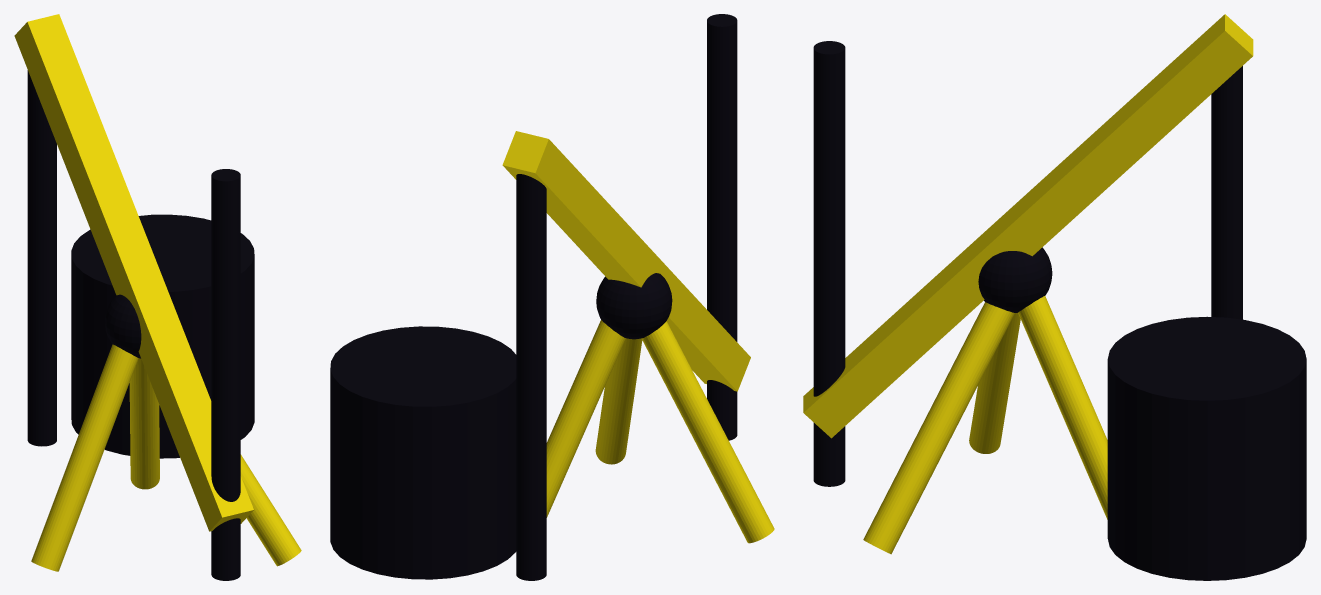
The model's file is sonda.fbx.
The picture shows the model from 3 angles, left to right: view 1: azimuth 30°, elevation 25°; view 2: azimuth 150°, elevation 25°; view 3: azimuth 270°, elevation 25°; orthographic projection. The views are drawn at different scales.
Parts seen in each view (by area): view 1: Cube, Cylinder.004, Cylinder.005, Cylinder.003, Cylinder.001, Cylinder, Cylinder.002, Sphere; view 2: Cylinder.004, Cube, Cylinder.003, Cylinder.005, Cylinder.001, Cylinder, Sphere, Cylinder.002; view 3: Cylinder.004, Cube, Cylinder.005, Cylinder.002, Cylinder.003, Cylinder, Sphere, Cylinder.001.
Boxes of the visible parts, bbox=[...] form: Cube: bbox=[14, 14, 253, 531]; Cylinder.004: bbox=[71, 214, 254, 458]; Cylinder.005: bbox=[211, 169, 240, 580]; Cylinder.003: bbox=[27, 70, 56, 446]; Cylinder.001: bbox=[31, 344, 138, 571]; Cylinder: bbox=[129, 358, 159, 489]; Cylinder.002: bbox=[240, 454, 301, 566]; Sphere: bbox=[105, 294, 177, 358]; Cylinder.004: bbox=[330, 326, 516, 579]; Cube: bbox=[502, 131, 750, 391]; Cylinder.003: bbox=[516, 174, 546, 580]; Cylinder.005: bbox=[707, 14, 737, 440]; Cylinder.001: bbox=[641, 321, 774, 543]; Cylinder: bbox=[546, 320, 625, 517]; Sphere: bbox=[596, 273, 672, 339]; Cylinder.002: bbox=[595, 338, 642, 464]; Cylinder.004: bbox=[1107, 316, 1306, 580]; Cube: bbox=[803, 14, 1253, 438]; Cylinder.005: bbox=[813, 41, 845, 486]; Cylinder.002: bbox=[863, 302, 1014, 554]; Cylinder.003: bbox=[1211, 66, 1242, 319]; Cylinder: bbox=[1018, 296, 1107, 519]; Sphere: bbox=[978, 247, 1052, 312]; Cylinder.001: bbox=[969, 313, 1020, 453].
Size of the model in its own units: 1958 by 2709 by 2531.
